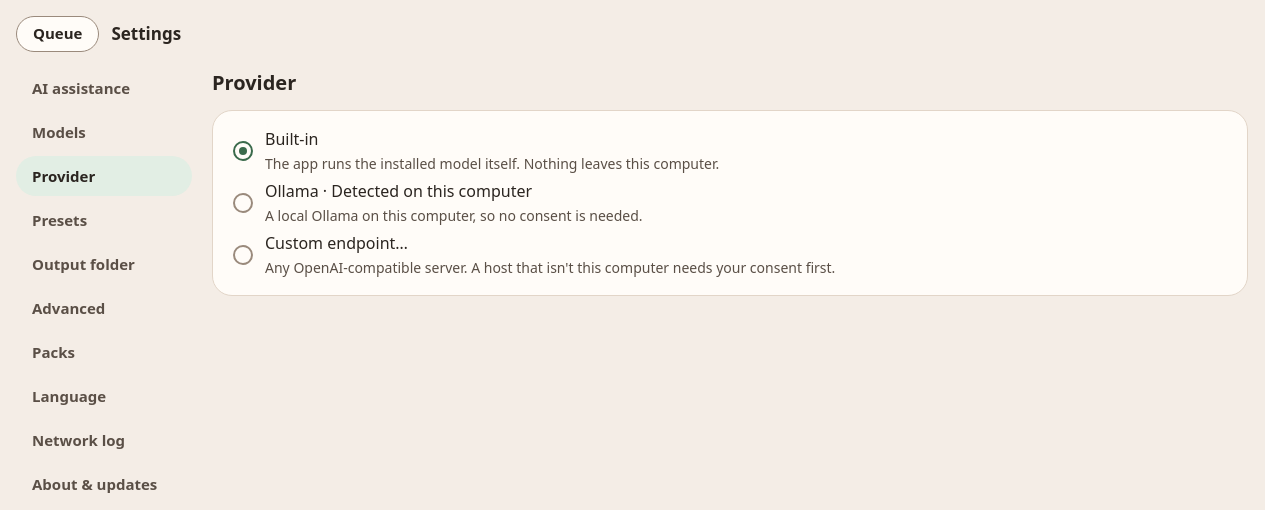
Test: queue route › the row itself says consent is needed and offers the dialog again
Click the button "Queue" at (58, 34), box [16,16,99,52]
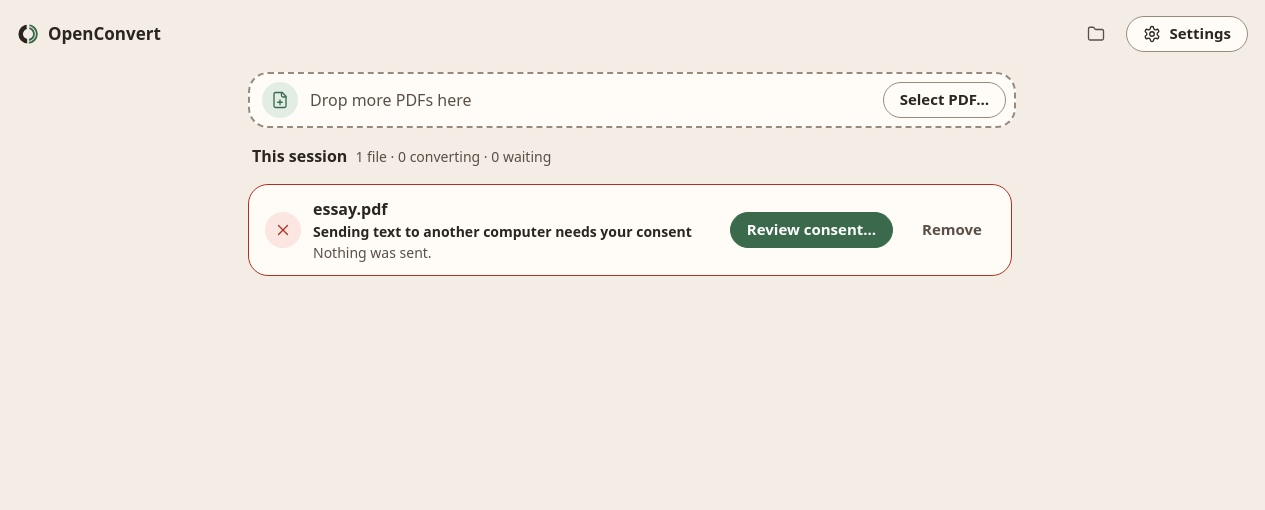
Check: the list item with aria-label "essay.pdf, Sending text to another computer needs your conse" shows "Sending text to another computer needs your consent", box [313,222,692,241]
Check: the list item with aria-label "essay.pdf, Sending text to another computer needs your conse" shows "Nothing was sent.", box [313,243,432,262]
